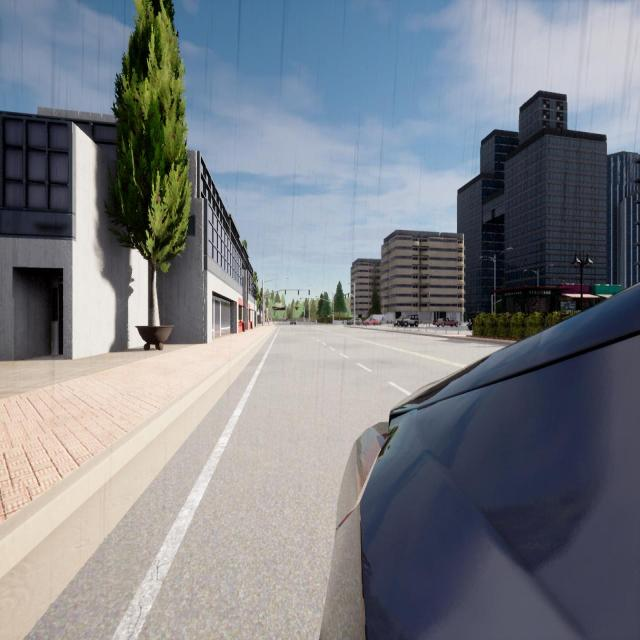Vehicle: (321, 286, 640, 640), (394, 315, 418, 327), (364, 315, 384, 325), (437, 318, 458, 327), (347, 318, 361, 325), (468, 315, 472, 330), (290, 319, 296, 325)
traffic_light: (308, 290, 310, 295), (332, 310, 334, 314), (345, 295, 346, 299), (300, 298, 301, 302), (285, 290, 286, 294), (298, 290, 299, 294), (348, 294, 349, 298), (308, 298, 309, 301), (318, 298, 318, 302)
